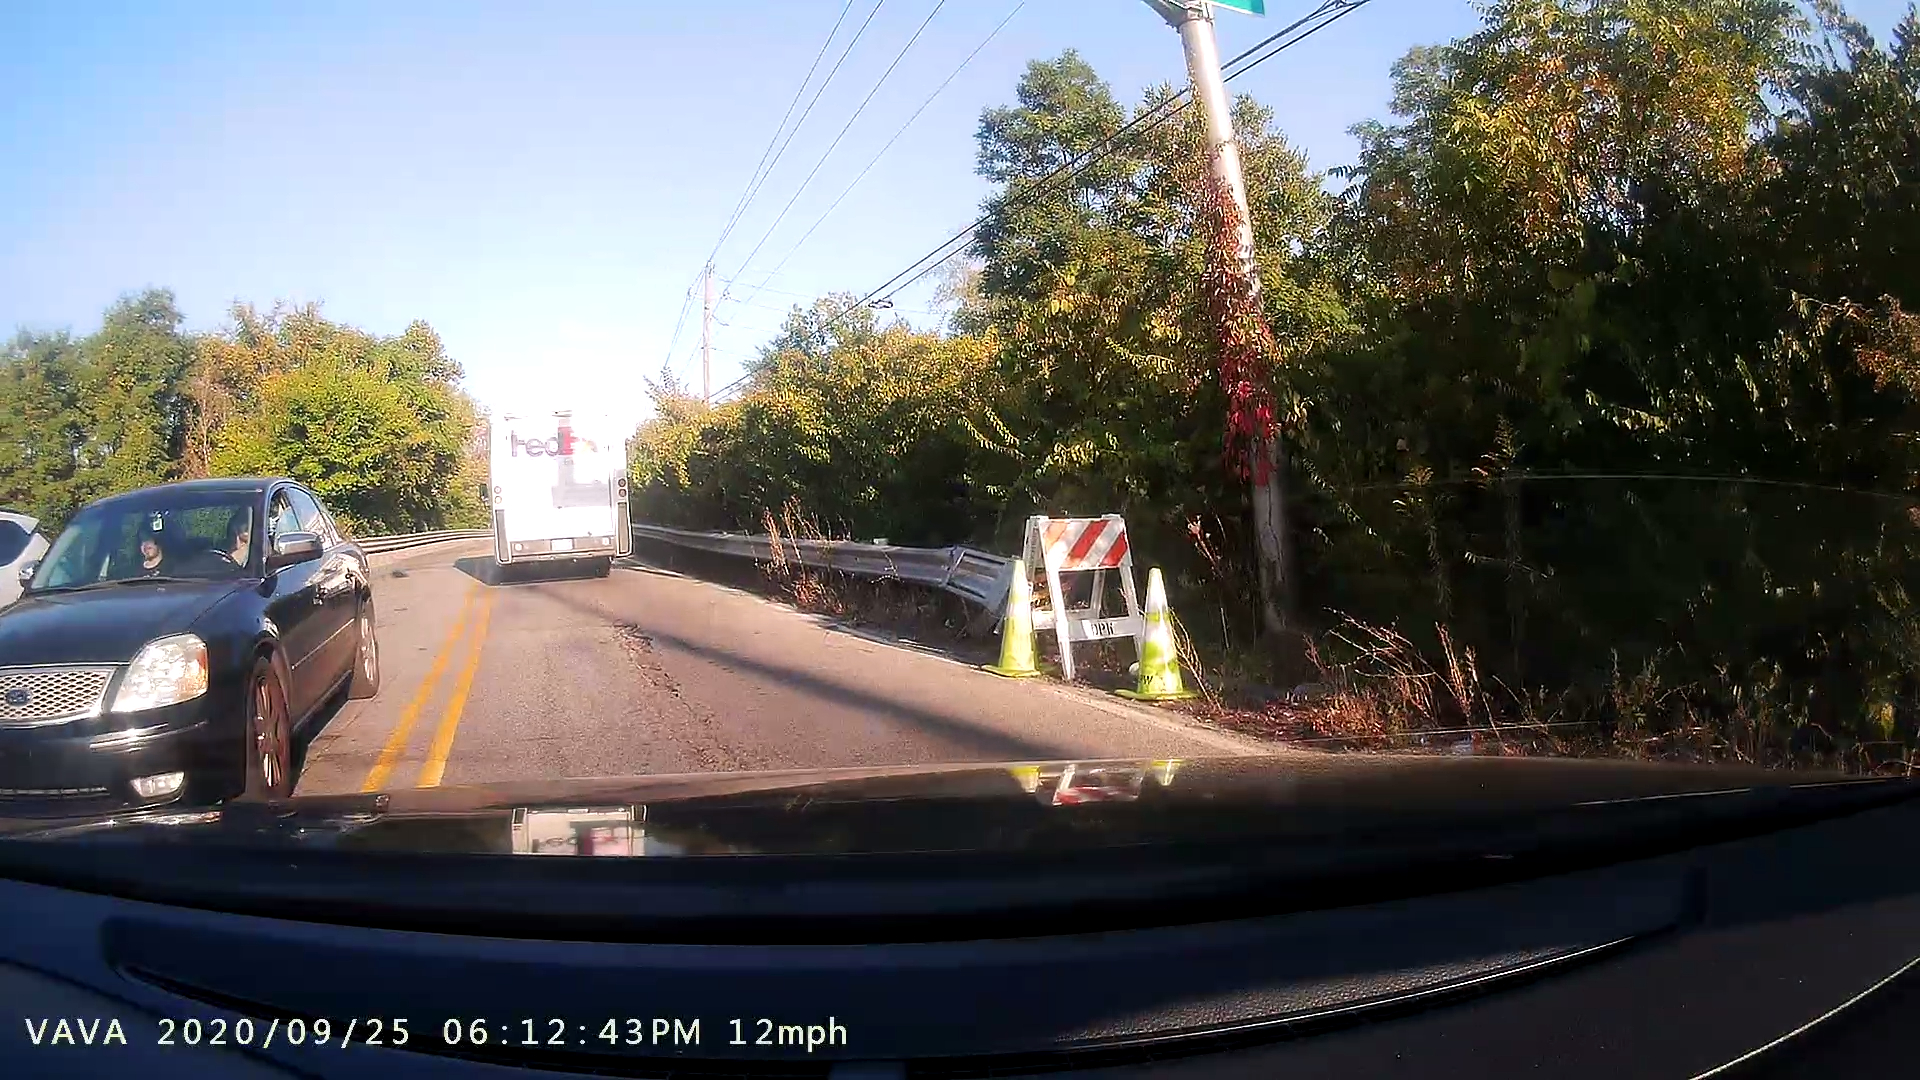const_cone: (1117, 564, 1209, 712), (975, 550, 1055, 682)
